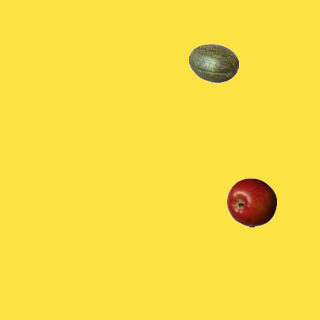Apple Braeburn: (226, 177, 276, 227)
Melon Piel de Sapo: (188, 38, 238, 88)
